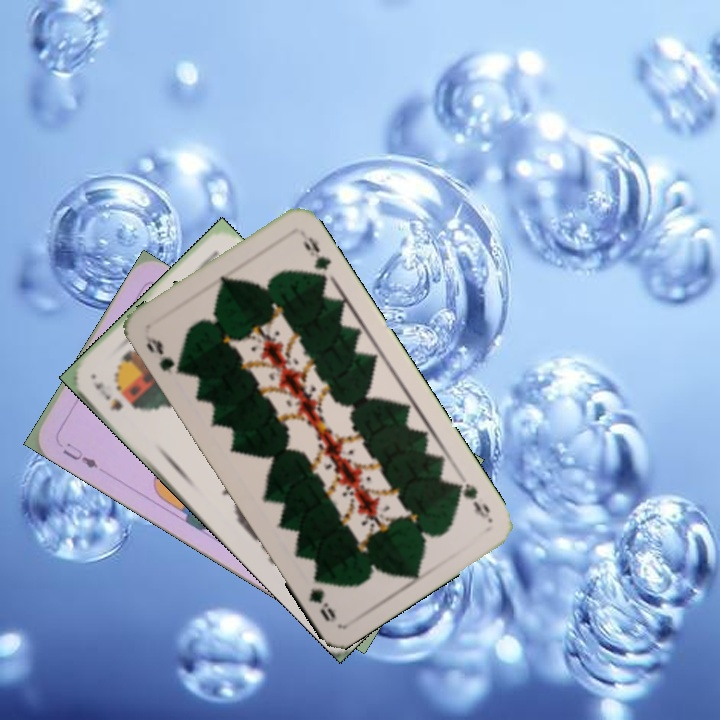EU: (58, 438, 101, 471)
G9: (140, 330, 187, 378), (451, 479, 494, 524)
SO: (90, 378, 126, 414)
